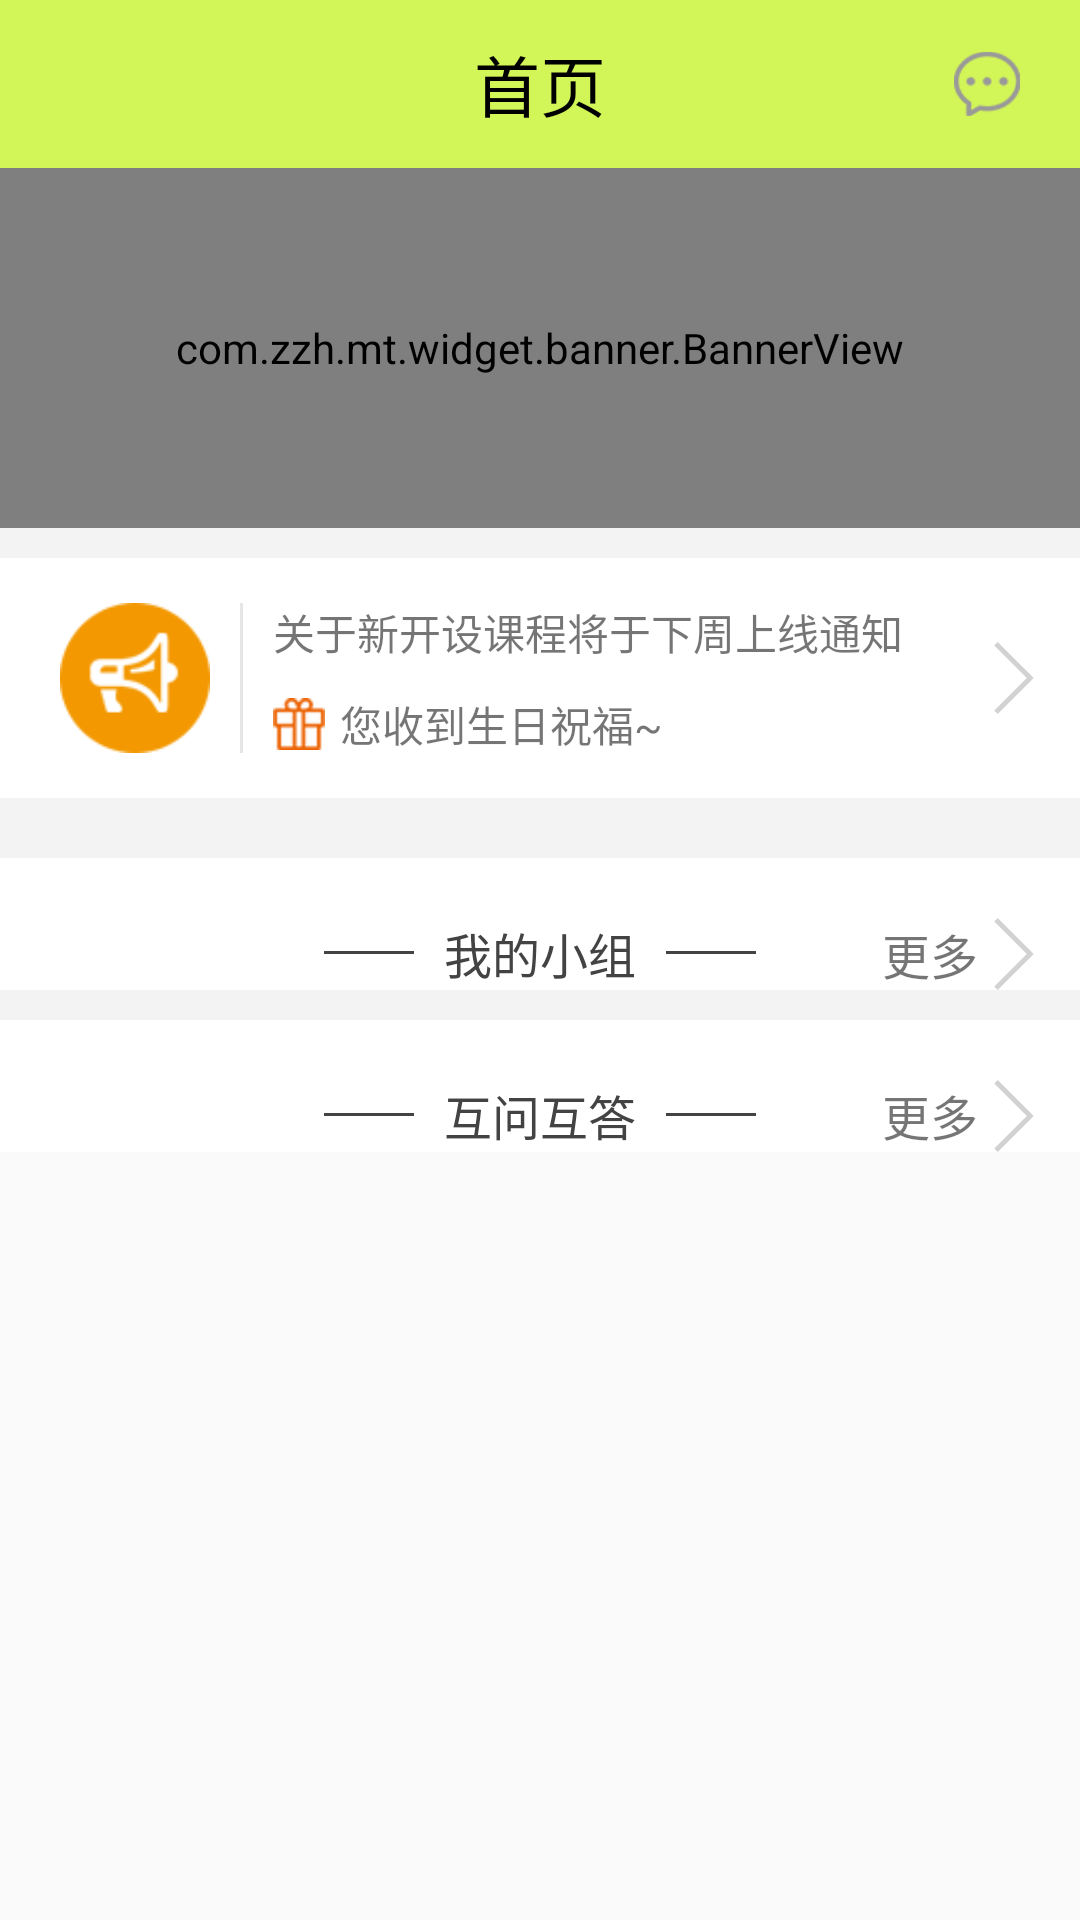

Locate icon controls on the screen. Image size 1080x1920, boxes as [x1, y1, x2, y2].
index inform: [60, 603, 210, 753]
index news: [954, 52, 1020, 116]
right: [995, 642, 1033, 714], [995, 918, 1033, 990], [995, 1080, 1033, 1152]
